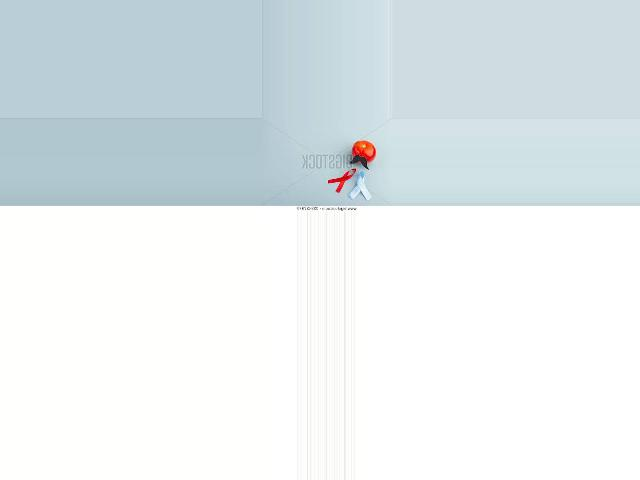tomato: (351, 140, 375, 163)
